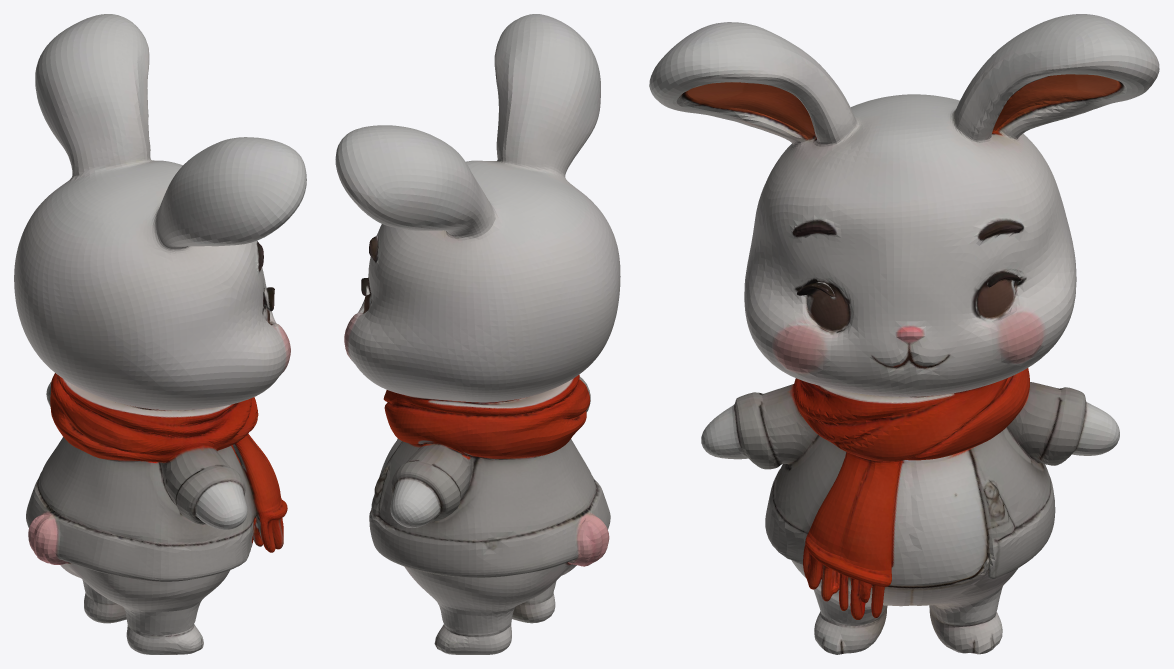
The model's file is rabbit.glb.
3 views of the same model, side by side, from view 1: azimuth 30°, elevation 25°; view 2: azimuth 150°, elevation 25°; view 3: azimuth 270°, elevation 25° (orthographic). The views are drawn at different scales.
Parts seen in each view (by area): view 1: tripo_node_e22aee27-deb7-42f6-a56f-eb15197fde1b; view 2: tripo_node_e22aee27-deb7-42f6-a56f-eb15197fde1b; view 3: tripo_node_e22aee27-deb7-42f6-a56f-eb15197fde1b.
Part boxes in pixels (x1=…): tripo_node_e22aee27-deb7-42f6-a56f-eb15197fde1b: x1=14, y1=14, x2=306, y2=654; tripo_node_e22aee27-deb7-42f6-a56f-eb15197fde1b: x1=335, y1=14, x2=620, y2=654; tripo_node_e22aee27-deb7-42f6-a56f-eb15197fde1b: x1=649, y1=14, x2=1159, y2=654.
Size of the model in its own units: 0.4511 by 0.9998 by 0.7255.
Materials: 1 (1 with a texture image).
